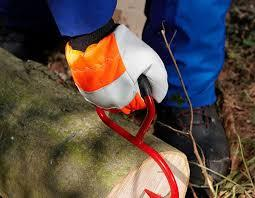gloves: (64, 19, 168, 115)
